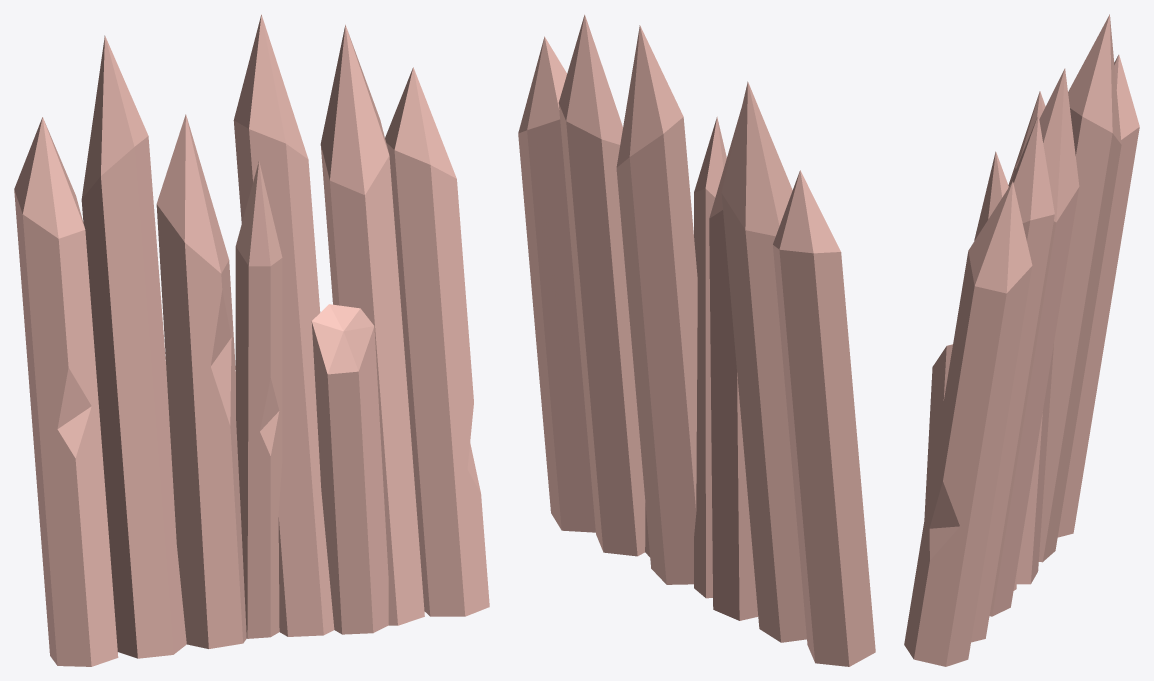
Rendered from Mega_Asset_s_Pack_Cylinder_026.FBX.
3 views of the same model, side by side, from view 1: azimuth 30°, elevation 25°; view 2: azimuth 150°, elevation 25°; view 3: azimuth 270°, elevation 25° (orthographic). The views are drawn at different scales.
Visible parts, largest first — view 1: Mega_Asset_s_Pack_Cylinder_026; view 2: Mega_Asset_s_Pack_Cylinder_026; view 3: Mega_Asset_s_Pack_Cylinder_026.
Boxes of the visible parts, bbox=[...] form: Mega_Asset_s_Pack_Cylinder_026: bbox=[14, 14, 489, 666]; Mega_Asset_s_Pack_Cylinder_026: bbox=[518, 14, 875, 666]; Mega_Asset_s_Pack_Cylinder_026: bbox=[904, 14, 1139, 666].
Size of what is drawn, in the model's own units: 285 by 169 by 432.
